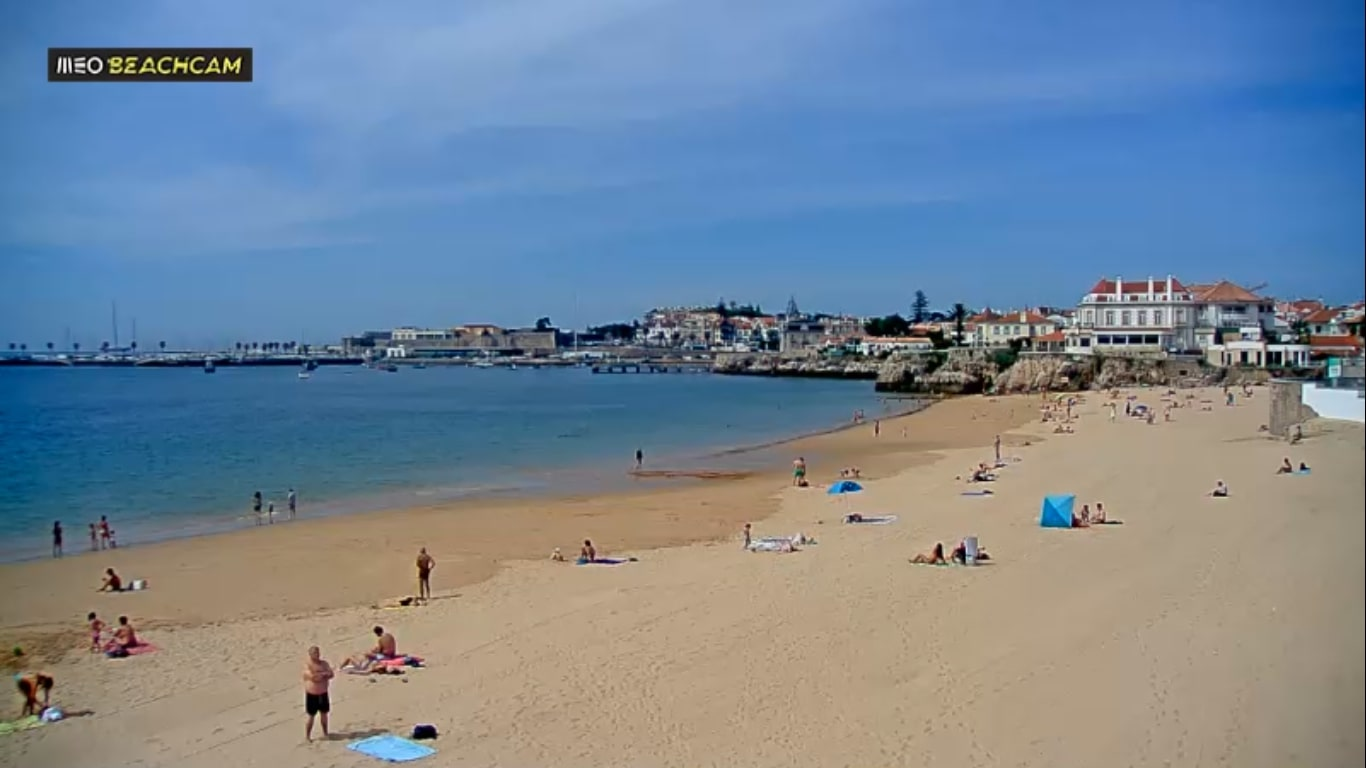person: (300, 644, 336, 742), (16, 669, 53, 723), (339, 654, 410, 675), (362, 622, 409, 652), (416, 546, 437, 601), (109, 614, 137, 650), (907, 541, 947, 565), (84, 612, 106, 650), (96, 566, 122, 592), (283, 484, 299, 521), (51, 518, 65, 559), (250, 484, 265, 522), (790, 456, 807, 488), (579, 537, 597, 565), (1092, 502, 1110, 524), (950, 539, 965, 564), (87, 521, 97, 552), (99, 513, 108, 547), (742, 521, 752, 549), (1212, 479, 1228, 496), (1278, 456, 1293, 474), (993, 433, 1001, 460), (973, 463, 986, 479), (635, 446, 644, 468), (1292, 425, 1302, 444), (1080, 503, 1089, 522), (1299, 460, 1311, 472), (1110, 401, 1116, 423), (850, 466, 860, 477), (110, 528, 116, 546), (267, 500, 273, 518), (874, 418, 879, 438), (839, 468, 848, 478), (1164, 405, 1169, 421), (1125, 400, 1130, 415), (1227, 392, 1233, 402), (1066, 403, 1070, 417), (1247, 388, 1253, 397), (1199, 399, 1214, 402), (1173, 400, 1178, 407), (1053, 403, 1056, 411), (1207, 404, 1211, 410), (1223, 385, 1226, 393), (1243, 384, 1245, 392)
